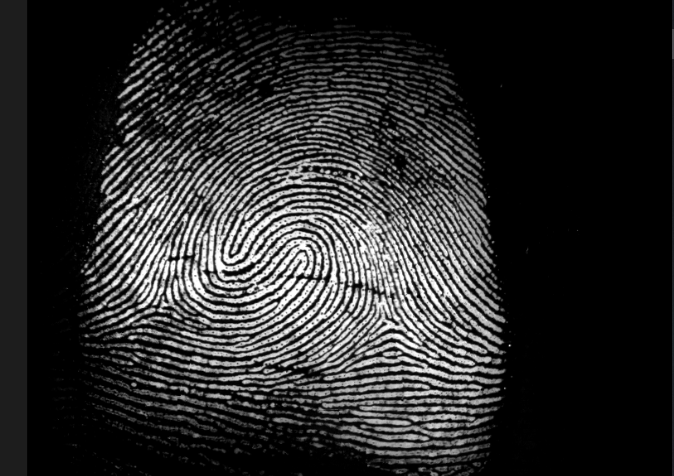nucelo: (286, 243, 317, 285)
verticilo: (141, 286, 179, 323), (363, 303, 399, 336)
